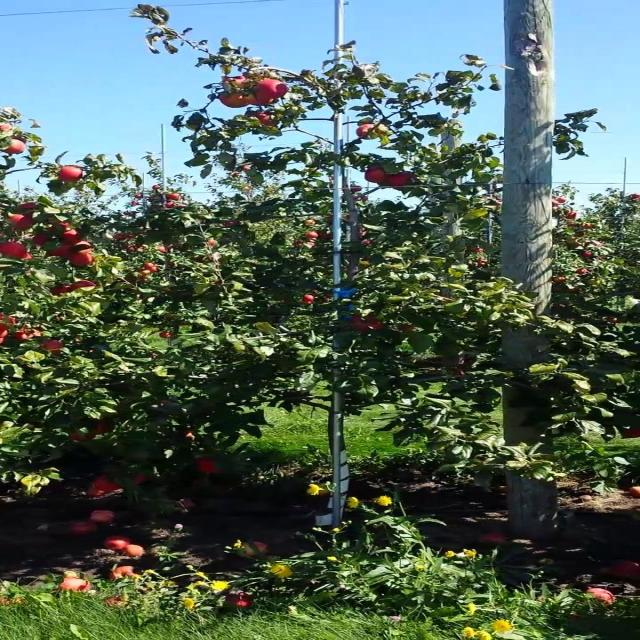apple: (255, 80, 292, 96), (198, 460, 226, 475), (390, 172, 414, 188), (99, 476, 121, 492), (355, 320, 384, 332), (13, 216, 36, 231), (248, 96, 276, 108), (6, 140, 28, 155), (70, 252, 92, 267), (220, 96, 247, 108), (369, 168, 389, 184), (255, 112, 276, 126), (63, 168, 85, 181), (6, 244, 28, 257), (20, 328, 43, 340), (227, 76, 249, 88), (63, 232, 84, 244), (70, 432, 94, 442), (262, 112, 277, 127), (42, 340, 64, 349), (362, 124, 377, 137), (49, 248, 71, 256), (49, 224, 71, 232), (625, 428, 639, 440), (70, 284, 96, 290), (99, 424, 112, 435), (35, 236, 50, 244), (56, 288, 71, 296), (134, 476, 149, 484), (77, 244, 92, 251), (6, 316, 18, 324), (305, 296, 316, 304), (184, 432, 196, 439), (20, 204, 36, 209), (163, 332, 171, 338)
